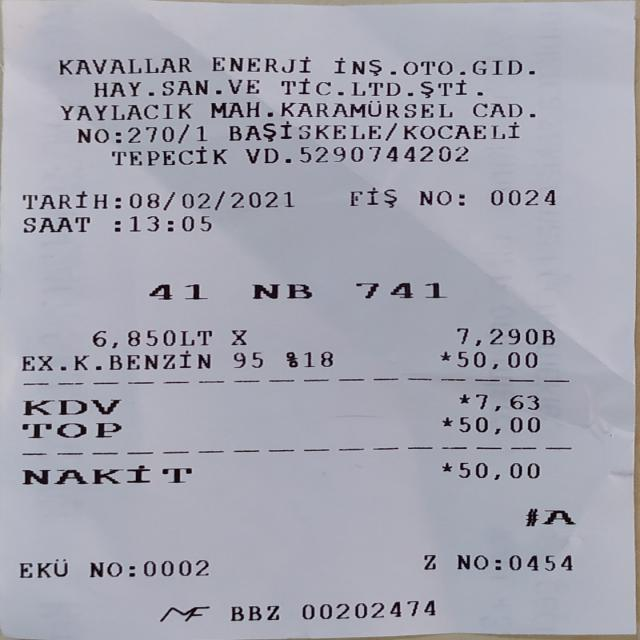text: (208, 97, 451, 119), (245, 142, 468, 165), (334, 51, 520, 78), (279, 74, 464, 97), (20, 349, 209, 371), (20, 462, 191, 485), (131, 186, 291, 210), (91, 75, 258, 97), (58, 50, 190, 76), (231, 119, 378, 142), (59, 99, 191, 121), (404, 116, 523, 140), (111, 144, 226, 168), (91, 326, 211, 348), (211, 52, 310, 76), (301, 600, 434, 617), (354, 275, 444, 300), (22, 186, 106, 212), (456, 324, 554, 346), (22, 396, 119, 416), (22, 419, 119, 439), (125, 120, 205, 144), (458, 413, 538, 434), (458, 349, 535, 370), (143, 554, 207, 579), (147, 276, 206, 302), (458, 460, 537, 479), (251, 276, 311, 301), (490, 184, 552, 208), (22, 212, 88, 232), (476, 391, 537, 412), (508, 552, 570, 572), (18, 554, 66, 579), (472, 96, 521, 118), (346, 185, 395, 207), (228, 603, 278, 620), (418, 183, 450, 209), (90, 554, 120, 579), (231, 347, 262, 370), (543, 506, 574, 527), (128, 211, 157, 233), (300, 349, 333, 367), (180, 212, 209, 232), (456, 552, 486, 570), (229, 325, 245, 347), (419, 552, 438, 570), (387, 117, 400, 142), (280, 349, 296, 366), (116, 186, 125, 212), (458, 391, 468, 411), (440, 348, 449, 370), (476, 73, 484, 97), (112, 212, 120, 234), (442, 460, 451, 479), (114, 120, 120, 146), (442, 413, 450, 432), (528, 53, 534, 77), (528, 95, 534, 119), (458, 183, 463, 209), (128, 554, 133, 579), (166, 212, 172, 232), (494, 552, 500, 570)
